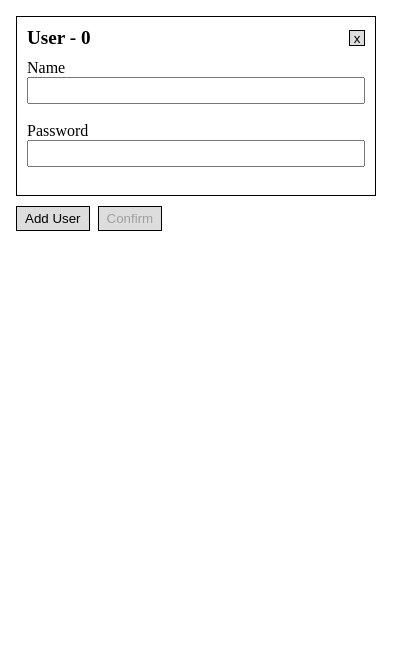
4. add user and duplicate test - 2
This screenshot has width=393, height=648.
Click the button "Add User".
click(53, 218)  # box [16,206,90,231]
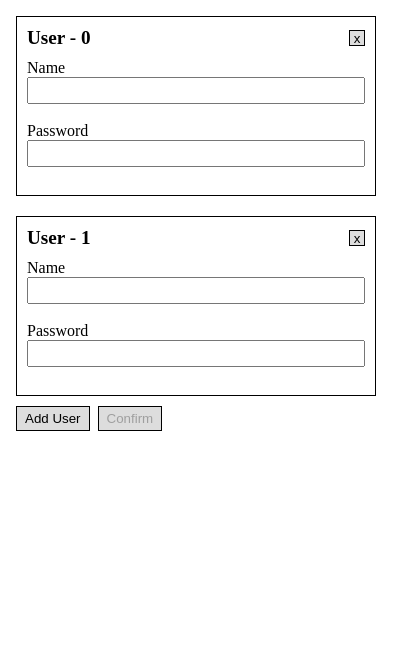
Click the button "Add User".
click(53, 418)  # box [16,406,90,431]
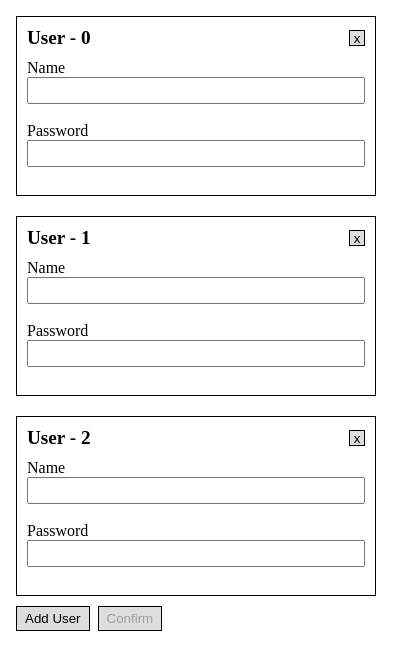
Expected: the number of fields with test id "Name" is 3
Expected: the number of fields with test id "Password" is 3, [27,140,365,167]; [27,340,365,367]; [27,540,365,567]
Type "test" into the 1st field with test id "Name".
click(196, 90); type("test")  # box [27,77,365,104]
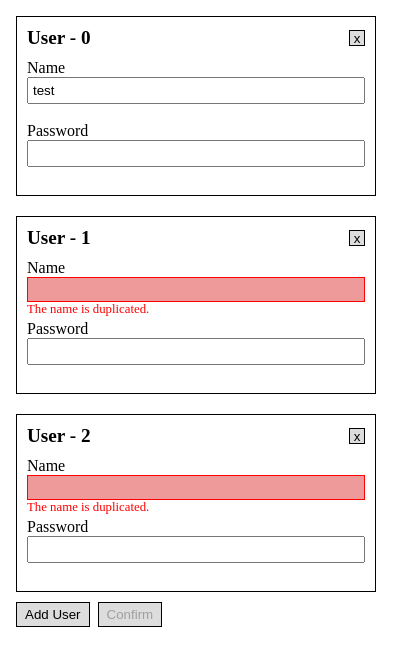
Type "test" into the 2nd field with test id "Name".
click(196, 290); type("test")  # box [27,277,365,302]
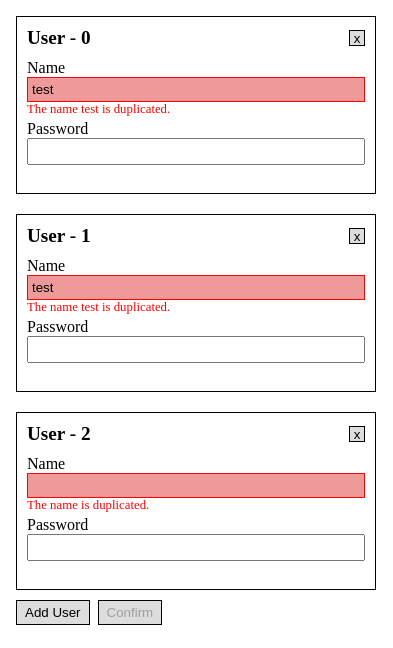
Expected: the text "The name test is duplicated." is shown 2 times, [27,102,170,116]; [27,300,170,314]
Type "te" into the 3rd field with test id "Name".
click(196, 486); type("te")  # box [27,473,365,498]
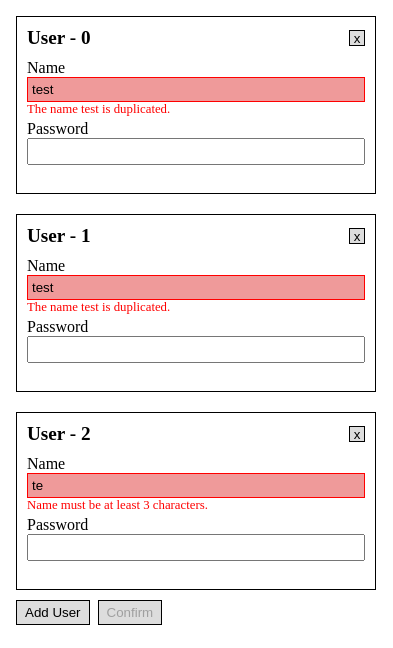
Expected: the text "Name must be at least 3 characters." is shown, [27,498,208,512]
Replace the text in the 3rd field with test id "Name" with "tes" at (196, 486), box [27,473,365,498]
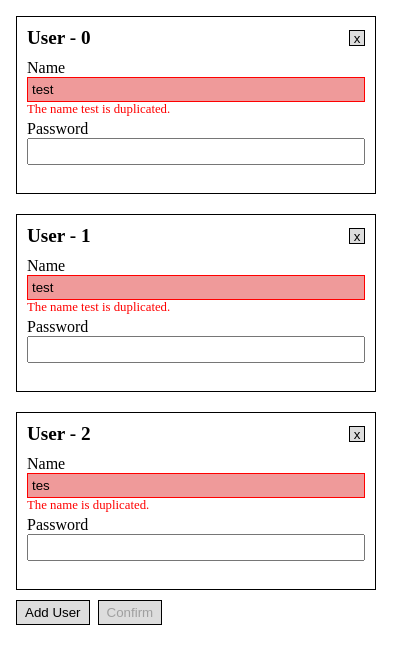
Expected: the text "The name test is duplicated." is shown 2 times, [27,102,170,116]; [27,300,170,314]
Expected: the text "Name must be at least 3 characters." is gone
